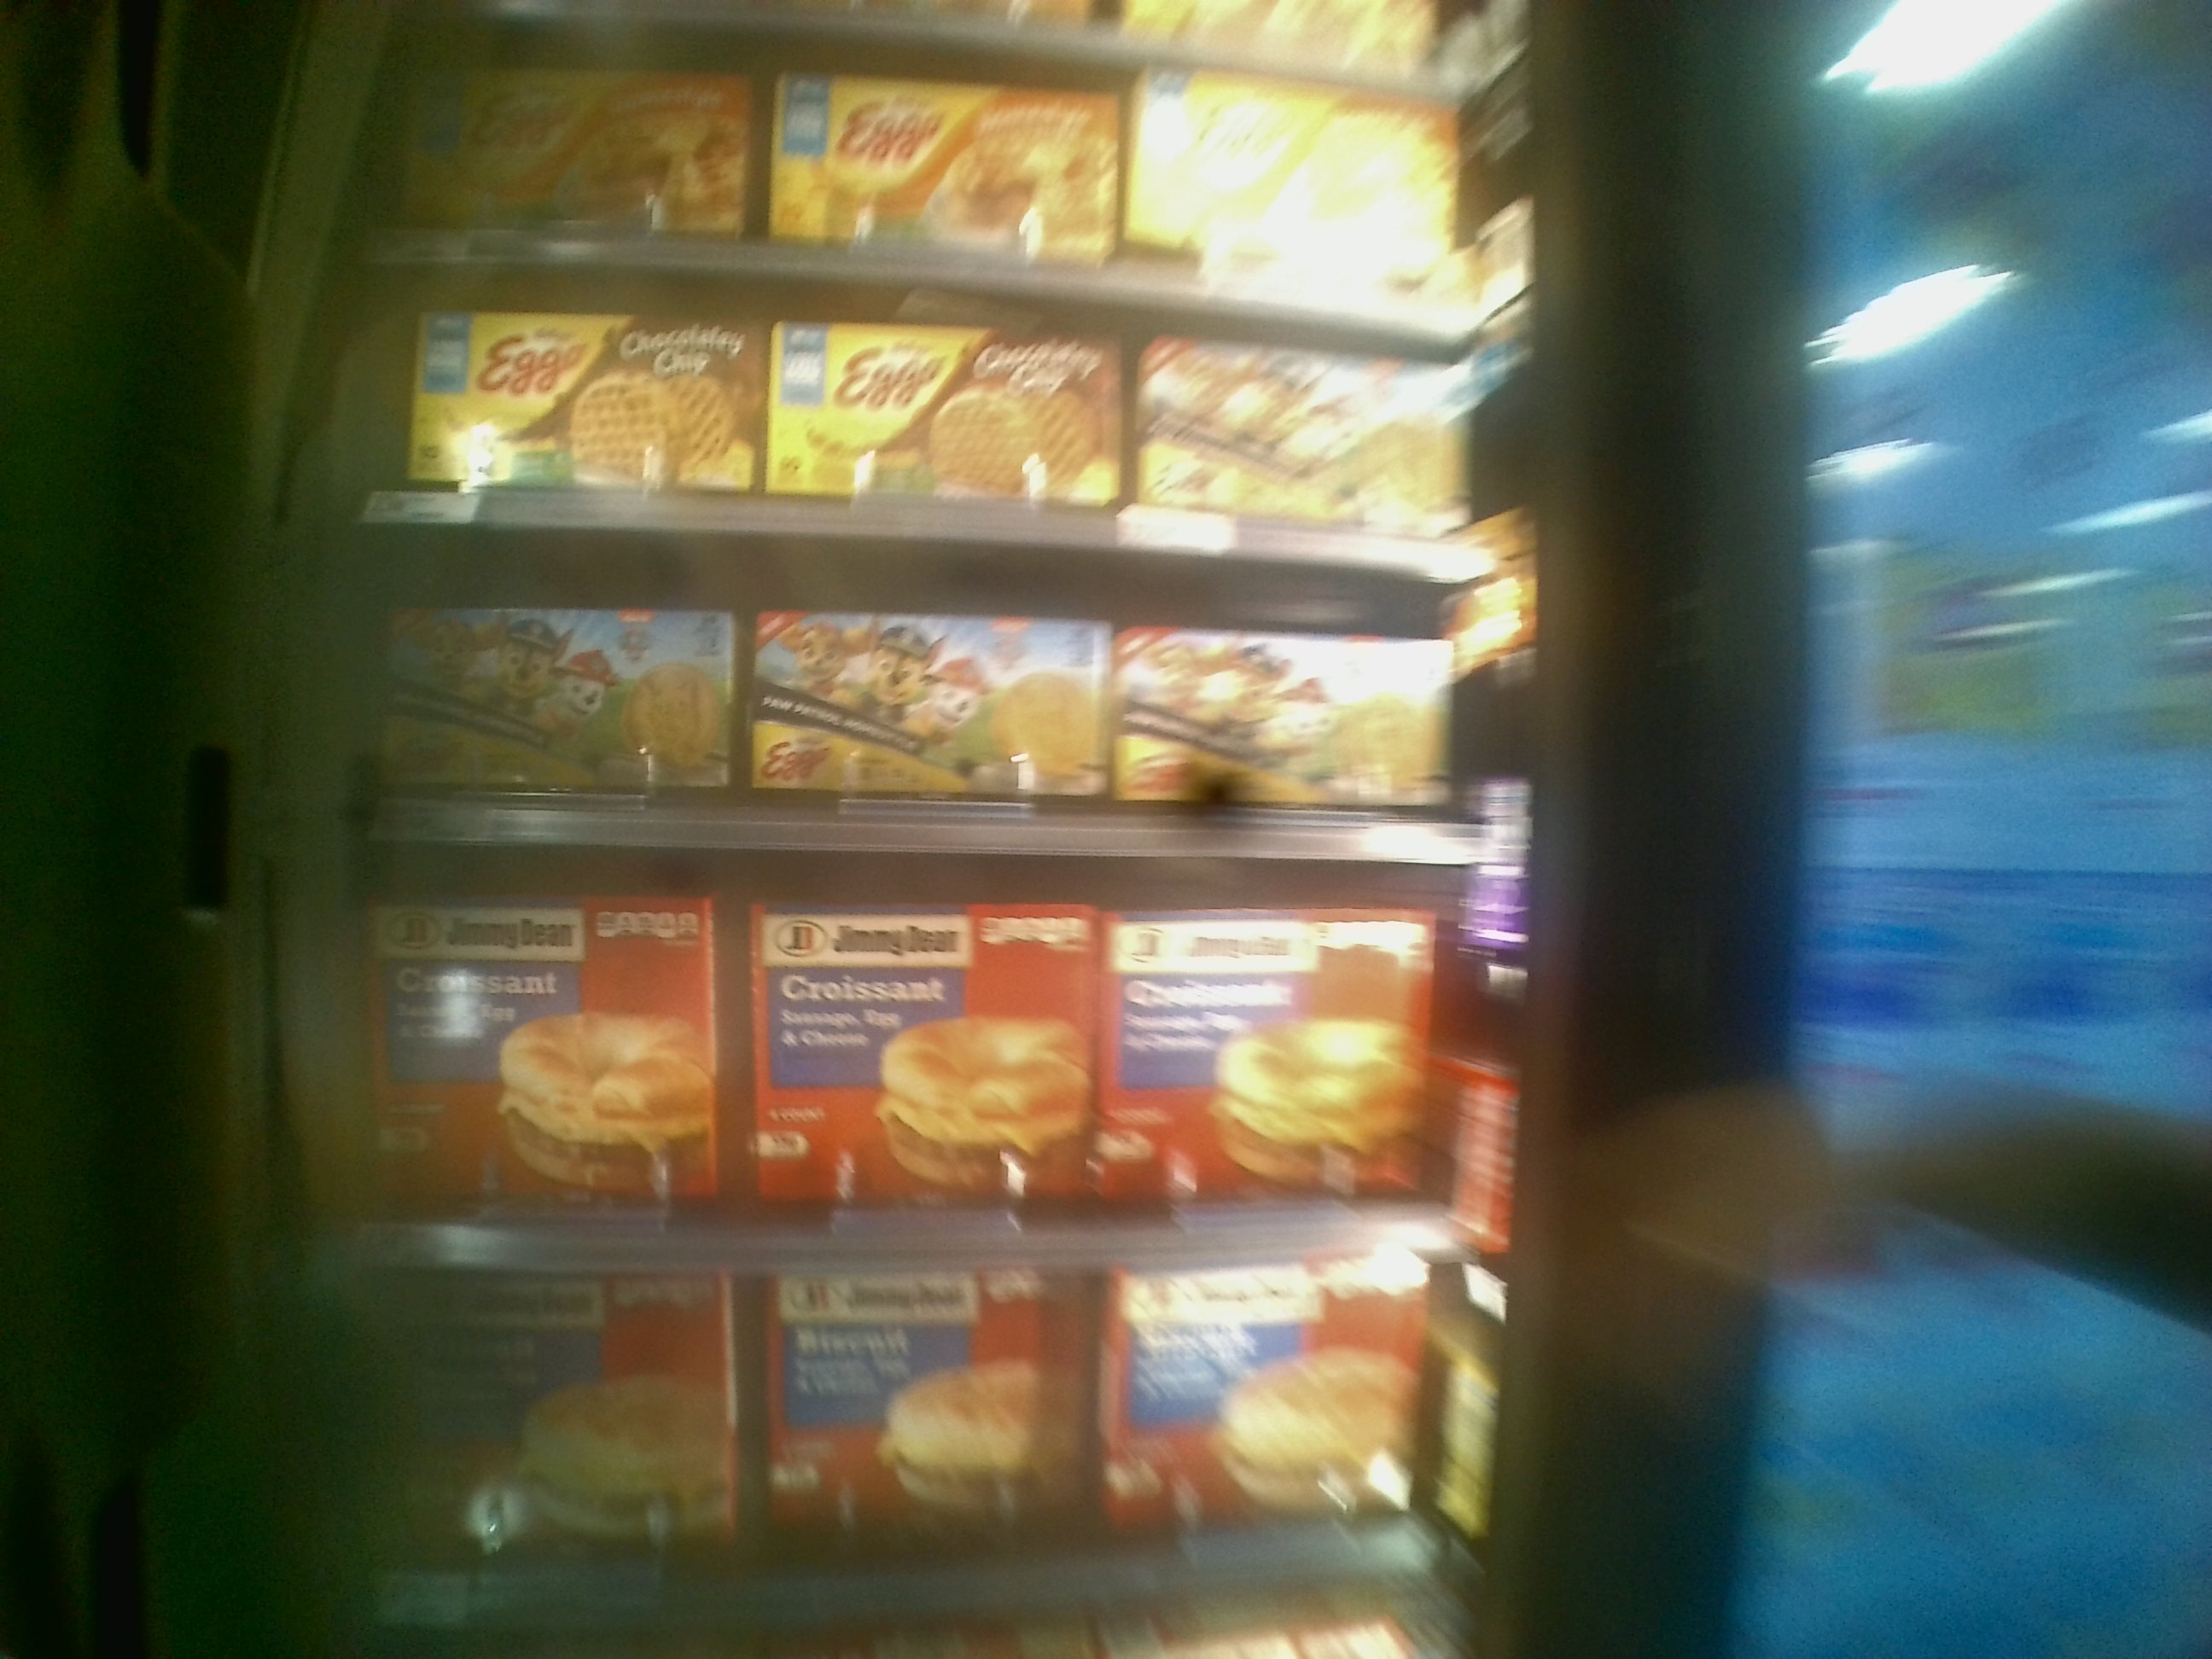shelf: (359, 843, 1521, 1263), (359, 523, 1491, 868), (354, 242, 1486, 561)
